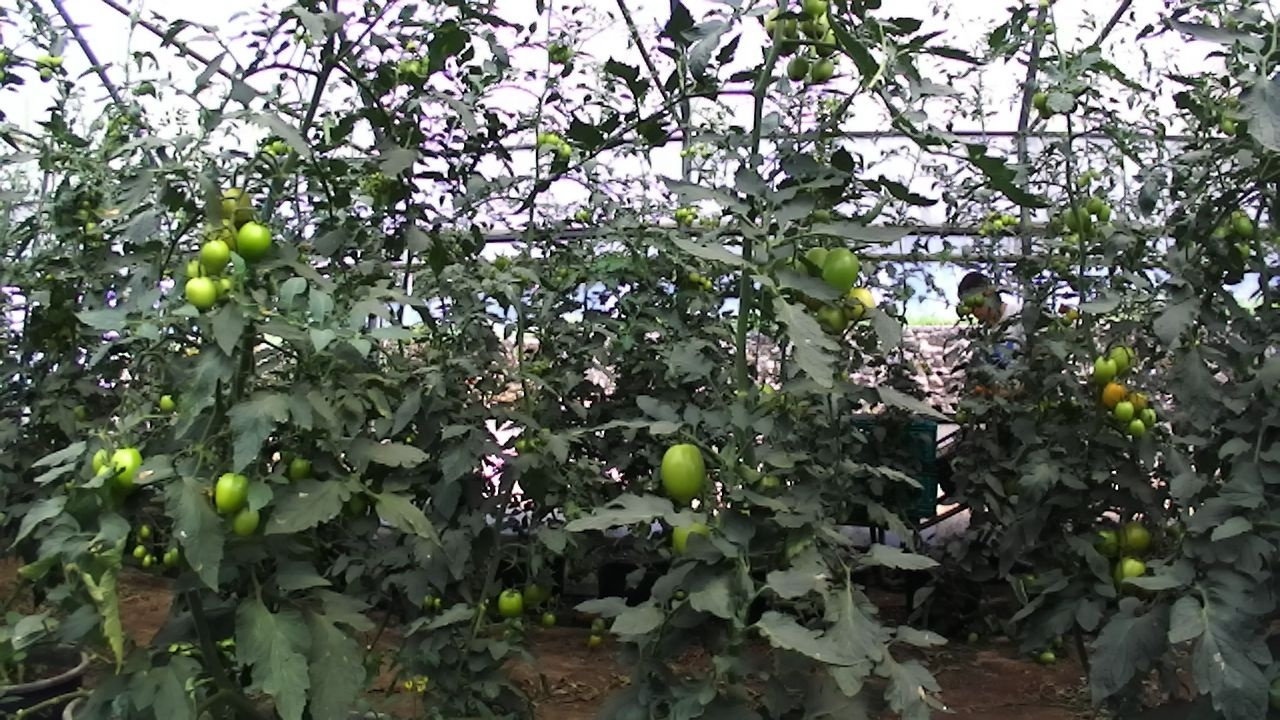tomato: (650, 428, 722, 513), (810, 236, 875, 313), (787, 237, 834, 309), (205, 465, 260, 520), (215, 182, 267, 238), (227, 213, 279, 268), (1107, 549, 1156, 597), (1111, 517, 1163, 562), (192, 231, 238, 281), (838, 276, 882, 327), (757, 0, 802, 46), (106, 442, 149, 490), (1101, 336, 1142, 383), (179, 271, 224, 313), (812, 298, 855, 340), (1087, 349, 1124, 392), (518, 572, 558, 611), (494, 583, 532, 624), (1097, 375, 1136, 414), (226, 502, 265, 540), (807, 23, 843, 61), (1061, 202, 1099, 235), (283, 450, 318, 485), (1109, 392, 1141, 427), (806, 52, 837, 88), (181, 253, 212, 287), (1229, 211, 1261, 241), (784, 51, 813, 84), (152, 388, 184, 417), (1022, 85, 1056, 112), (1213, 112, 1243, 139), (1136, 403, 1162, 430), (536, 607, 560, 634), (1125, 414, 1150, 439), (1092, 200, 1117, 225), (1083, 192, 1107, 218), (1035, 645, 1060, 669), (135, 518, 156, 543), (129, 540, 150, 562), (37, 62, 56, 84), (138, 548, 155, 572), (159, 548, 177, 569), (555, 140, 573, 160), (542, 130, 560, 149)
